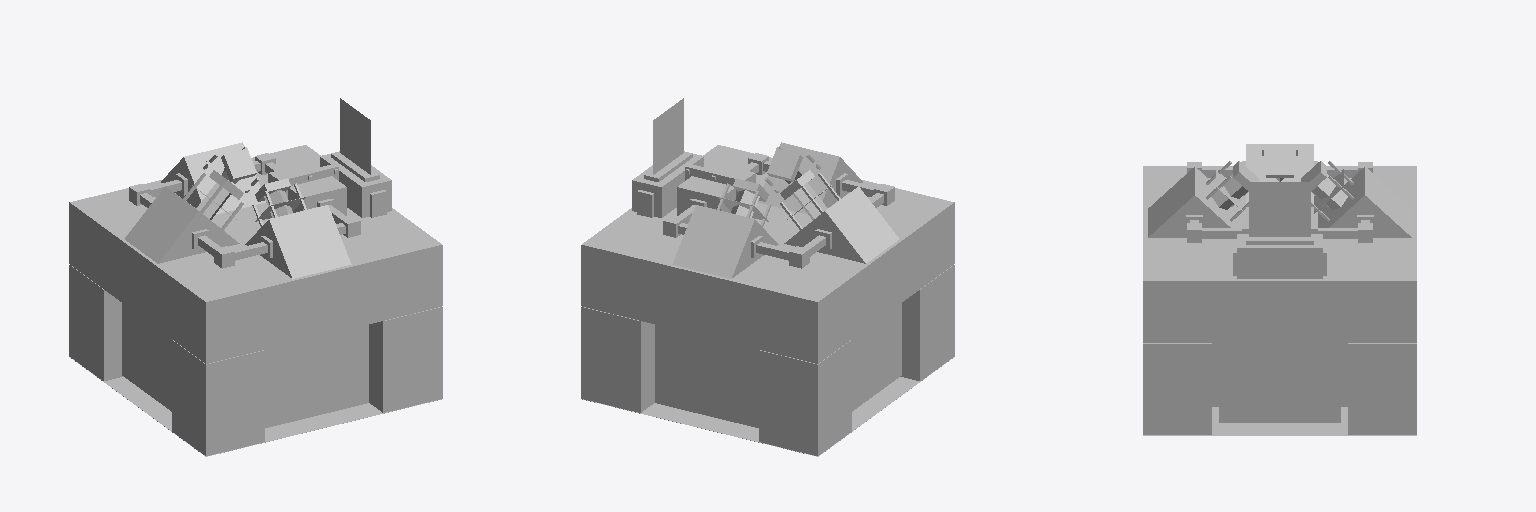
The model's file is item_splitter_filtered.obj.
3 views of the same model, side by side, from view 1: azimuth 30°, elevation 25°; view 2: azimuth 150°, elevation 25°; view 3: azimuth 270°, elevation 25° (orthographic).
Visible parts, largest first — view 1: body, card; view 2: body, card; view 3: body, card.
Boxes of the visible parts, <box> form: body: <box>69,142,442,456</box>; card: <box>340,98,370,174</box>; body: <box>581,142,954,456</box>; card: <box>653,98,683,174</box>; body: <box>1143,144,1416,435</box>; card: <box>1249,182,1310,236</box>.
Bounding box in the file's own units: 1 × 0.9878 × 1.